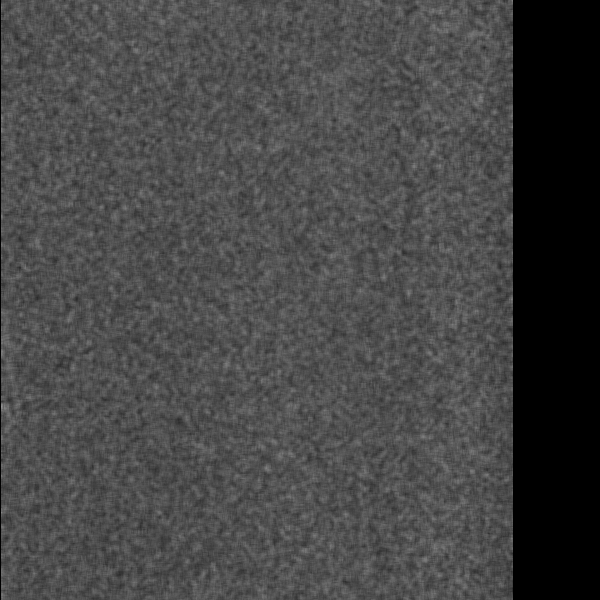spark: (297, 393, 321, 422), (293, 589, 322, 600)
